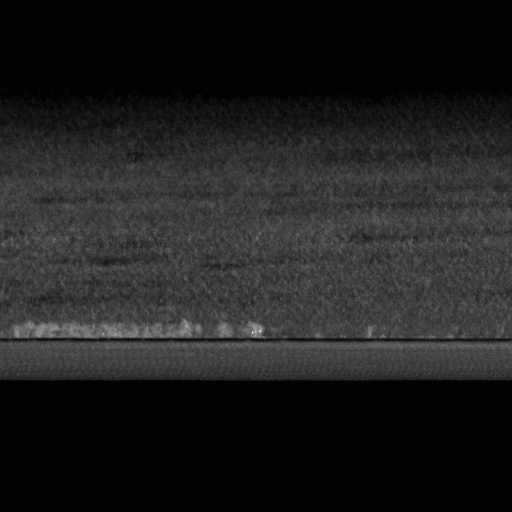jiaofeng: (0, 335, 511, 349)
